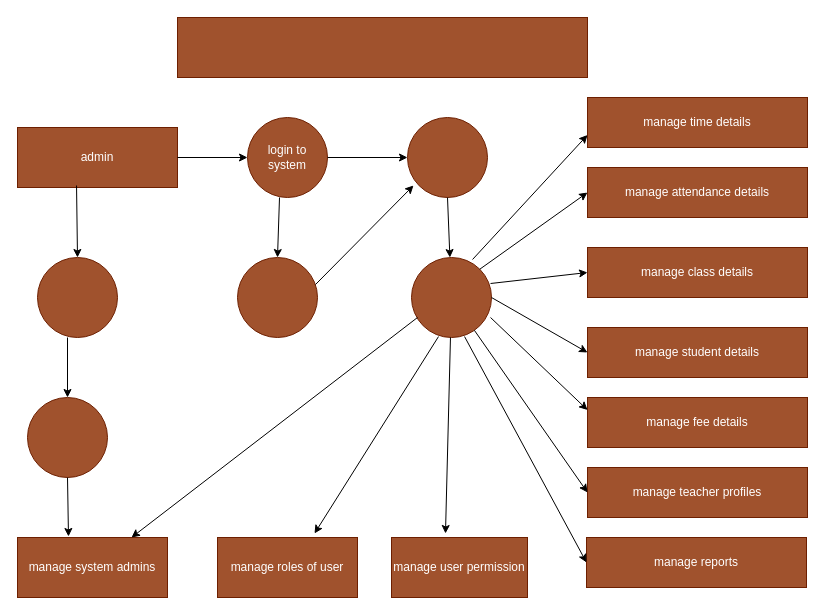
Image size: 825x615. Some labels were removed from this diagram. Each missing label, with the box of its shape:
check credintials: (236, 256, 318, 338)
check roles of access: (406, 116, 488, 198)
forgot password: (36, 256, 118, 338)
manage modules: (410, 256, 492, 338)
send email to user: (26, 396, 108, 478)
student information system: (176, 16, 588, 78)
